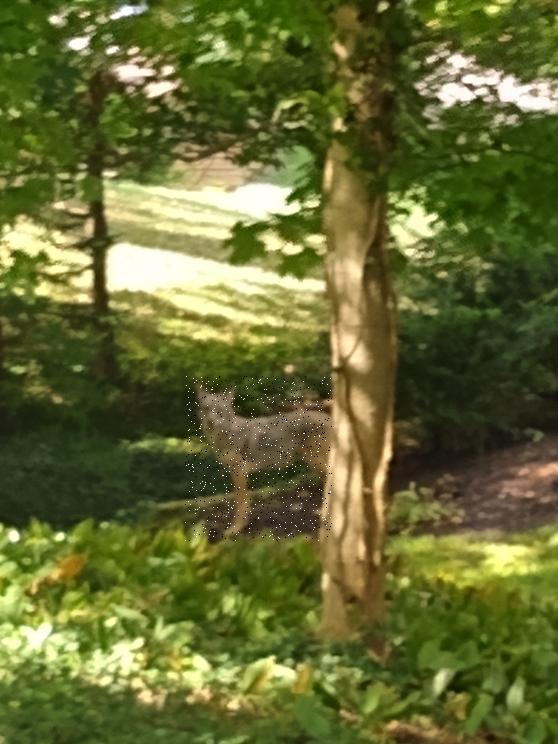Coyote: (185, 376, 332, 541)
